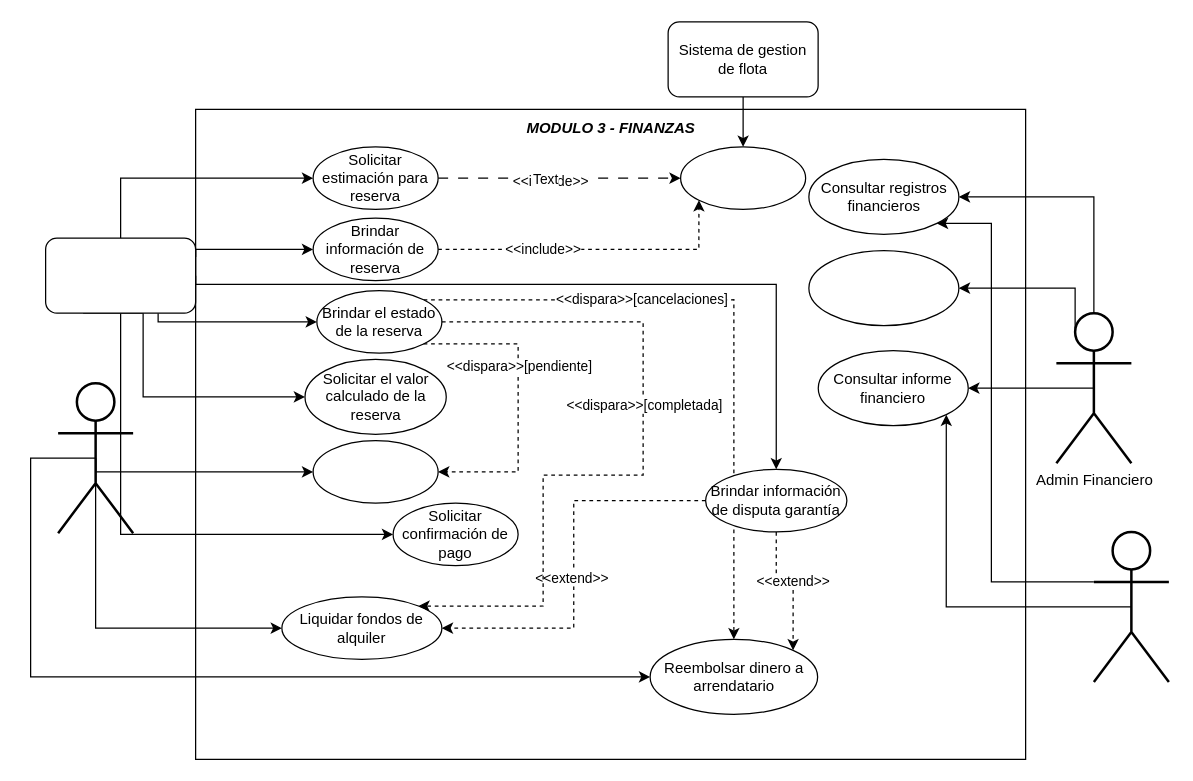
This 1193x781 diagram has some shape labels left out. The box of each missing label's shape, as (x1, y1, x2, y2) in pixels:
Brindar tarifa base: (679, 146, 806, 209)
Configurar parámetros financieros globales: (808, 249, 959, 326)
Pasarela de pago: (56, 381, 134, 534)
Procesar cobro: (312, 439, 438, 503)
Propietario: (1092, 530, 1170, 682)
Sistema de reservas y operaciones: (44, 237, 196, 313)
